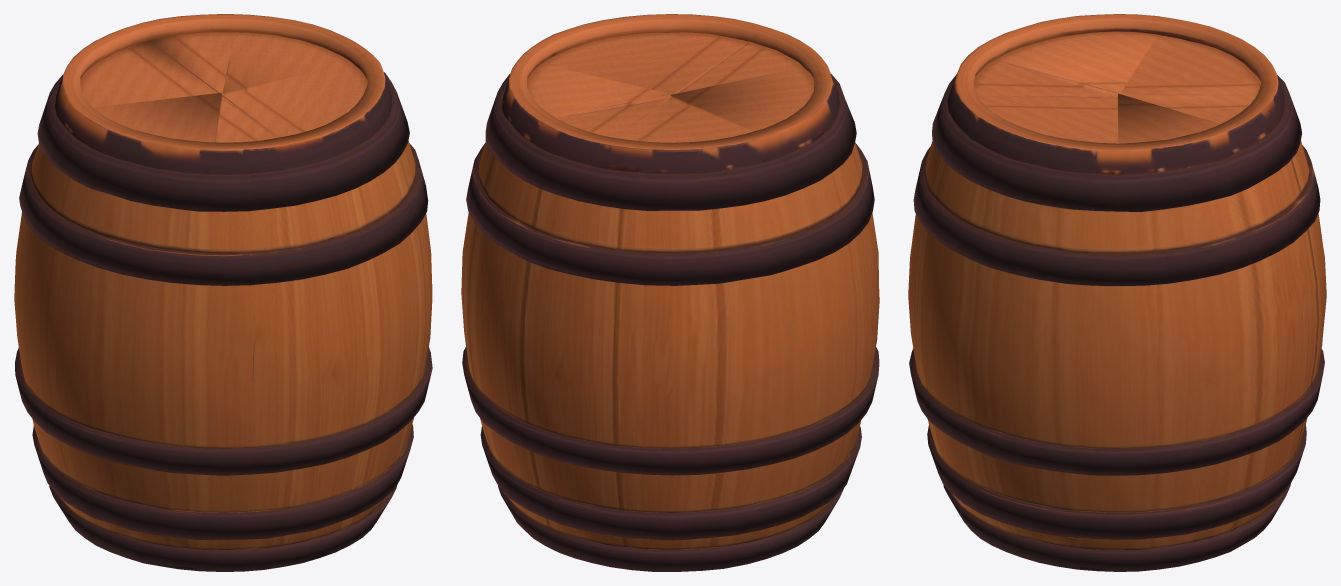
Rendered from barrel_3.glb.
3 renders of one model, left to right at view 1: azimuth 30°, elevation 25°; view 2: azimuth 150°, elevation 25°; view 3: azimuth 270°, elevation 25°, orthographic.
Parts seen in each view (by area): view 1: Mesh_0; view 2: Mesh_0; view 3: Mesh_0.
Part boxes in pixels (x1,y1,x2,y2): Mesh_0: [14, 14, 432, 571]; Mesh_0: [461, 14, 879, 571]; Mesh_0: [908, 14, 1326, 571].
Size of the model in its own units: 0.6303 by 0.7 by 0.6289.
1 material, 1 textured.
